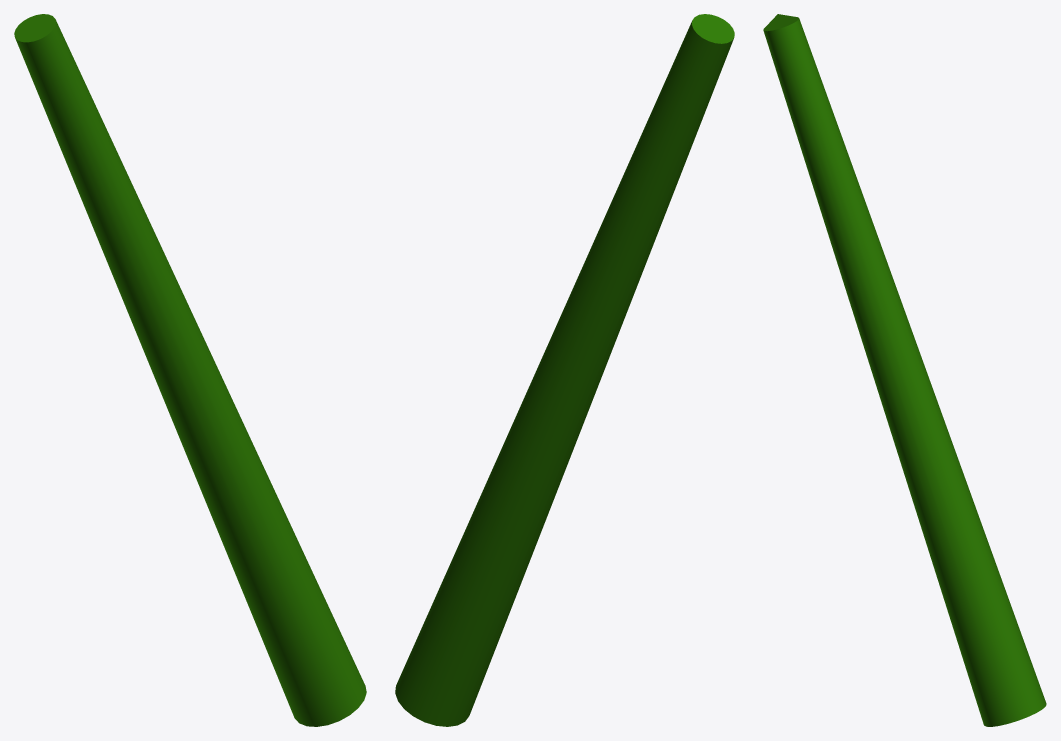
File: gay_line.fbx
The picture shows the model from 3 angles, left to right: view 1: azimuth 30°, elevation 25°; view 2: azimuth 150°, elevation 25°; view 3: azimuth 330°, elevation 25°; orthographic projection. The views are drawn at different scales.
Parts seen in each view (by area): view 1: pasted__pCylinder2; view 2: pasted__pCylinder2; view 3: pasted__pCylinder2.
Part boxes in pixels (x1,y1,x2,y2): pasted__pCylinder2: (14, 14, 366, 726); pasted__pCylinder2: (395, 14, 734, 726); pasted__pCylinder2: (763, 14, 1046, 726).
Size of the model in its own units: 49.64 by 108 by 10.36.
